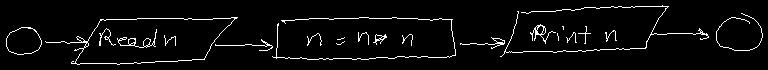arrow: (650, 28, 708, 39), (215, 39, 272, 50), (45, 36, 88, 50), (460, 37, 504, 48)
connection: (716, 13, 762, 50), (6, 27, 41, 54)
data: (500, 5, 668, 56), (71, 17, 237, 64)
process: (272, 17, 455, 59)
text: (530, 24, 616, 43), (99, 28, 175, 47), (307, 32, 412, 45)
